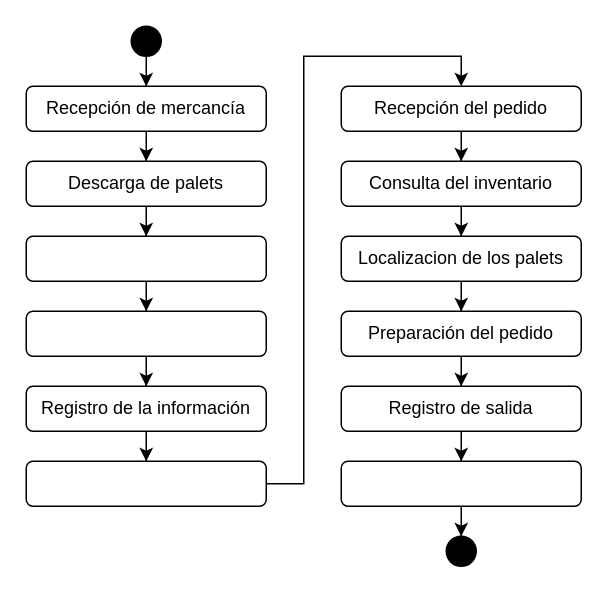
This 608x593 diagram has some shape labels left out. The centre of each missing label's shape, as x and y in pixels:
"Almacenamiento del palet" goes at (x=145, y=483).
"Asignación de la ubicación" goes at (x=145, y=333).
"Envío" goes at (x=460, y=483).
"Identificación del palet" goes at (x=145, y=258).
